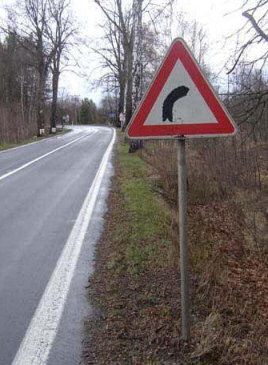Bend_to_right: (123, 35, 240, 141)
